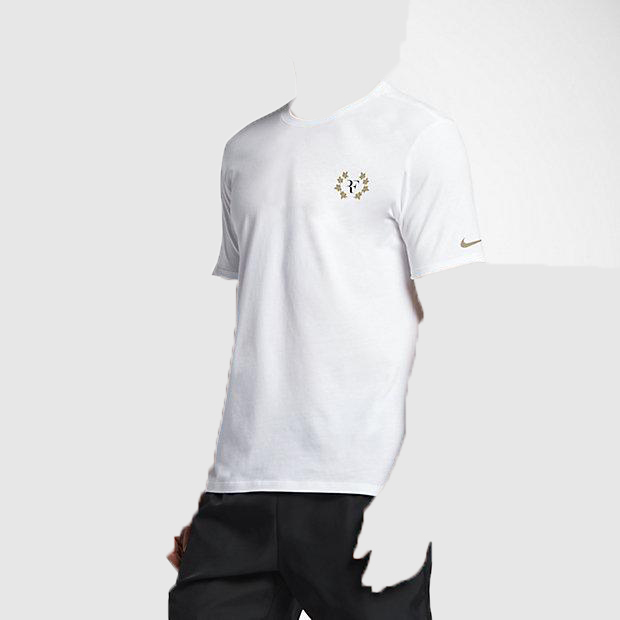teeshirt: (199, 85, 512, 505)
